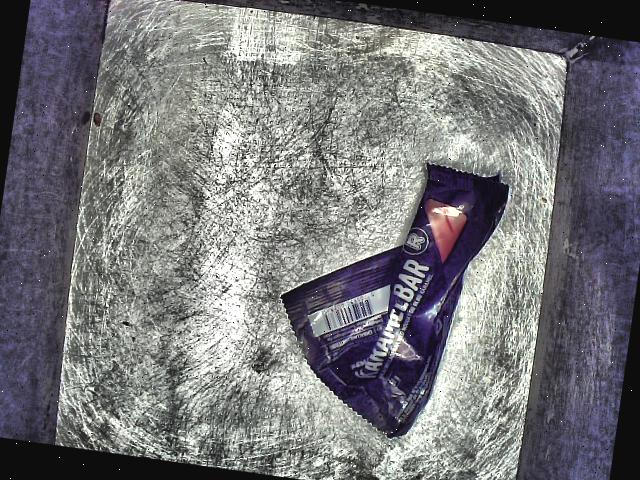Plastic: (264, 134, 515, 452)
